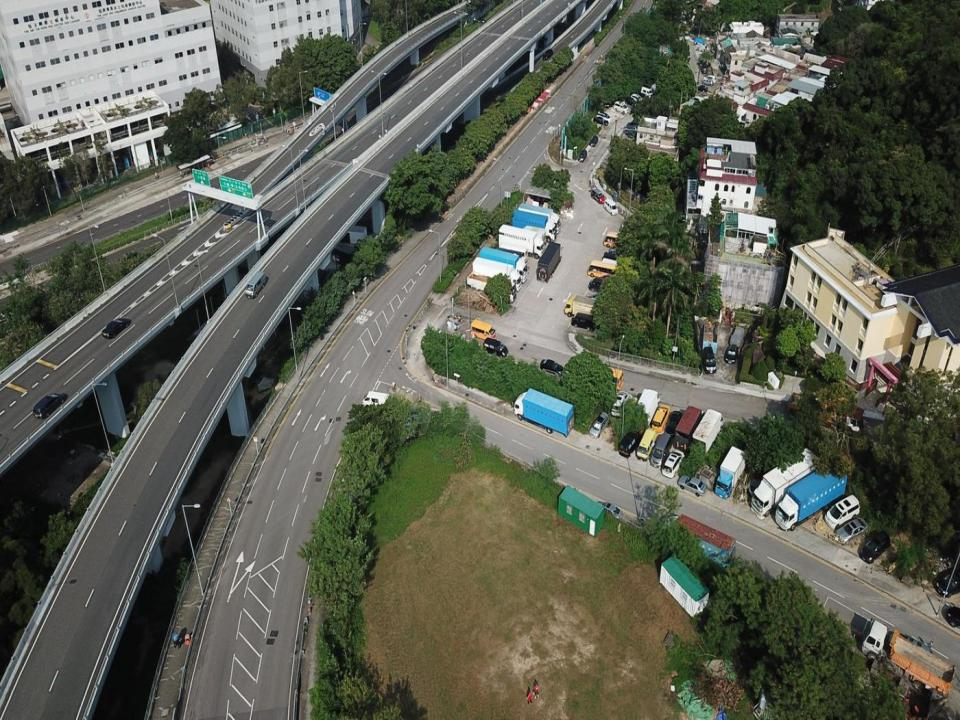bus: (592, 364, 624, 391), (492, 244, 529, 264), (587, 260, 622, 280), (603, 231, 628, 249)
car: (824, 493, 861, 530), (860, 529, 891, 564), (31, 391, 68, 420), (834, 516, 869, 545), (617, 429, 643, 458), (935, 568, 960, 598), (101, 316, 132, 340), (662, 448, 685, 479), (594, 500, 623, 524), (677, 474, 707, 497), (610, 391, 633, 418), (588, 411, 609, 439), (664, 408, 683, 438), (539, 358, 564, 376), (702, 346, 717, 374), (599, 258, 623, 275), (588, 277, 613, 293), (583, 293, 607, 308), (590, 187, 606, 205), (725, 344, 738, 364), (602, 251, 622, 264), (612, 100, 630, 114), (607, 245, 625, 257), (596, 110, 612, 122), (592, 116, 609, 127), (629, 93, 644, 105), (625, 96, 639, 108), (577, 148, 588, 163), (623, 124, 639, 134), (542, 48, 554, 61), (588, 134, 599, 147), (695, 83, 708, 92), (701, 78, 714, 86), (703, 75, 716, 83), (700, 64, 708, 74)
truck: (861, 617, 955, 699), (749, 447, 821, 520), (775, 461, 847, 532), (661, 514, 736, 578), (514, 387, 574, 437), (479, 246, 529, 283), (472, 256, 522, 292), (715, 445, 746, 500), (691, 408, 724, 459), (466, 271, 517, 304), (498, 224, 546, 259), (511, 207, 557, 243), (674, 405, 705, 454), (518, 203, 561, 235), (536, 240, 564, 284), (634, 386, 662, 428), (564, 295, 602, 318), (516, 225, 546, 249)
van: (650, 432, 671, 469), (636, 428, 658, 462), (243, 270, 267, 300), (470, 319, 497, 342), (652, 404, 672, 435), (482, 337, 509, 359), (362, 390, 390, 409), (571, 312, 595, 330), (604, 198, 618, 216), (640, 84, 653, 99)
